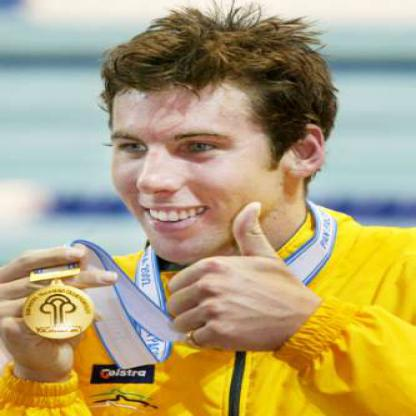face: (100, 31, 292, 266)
